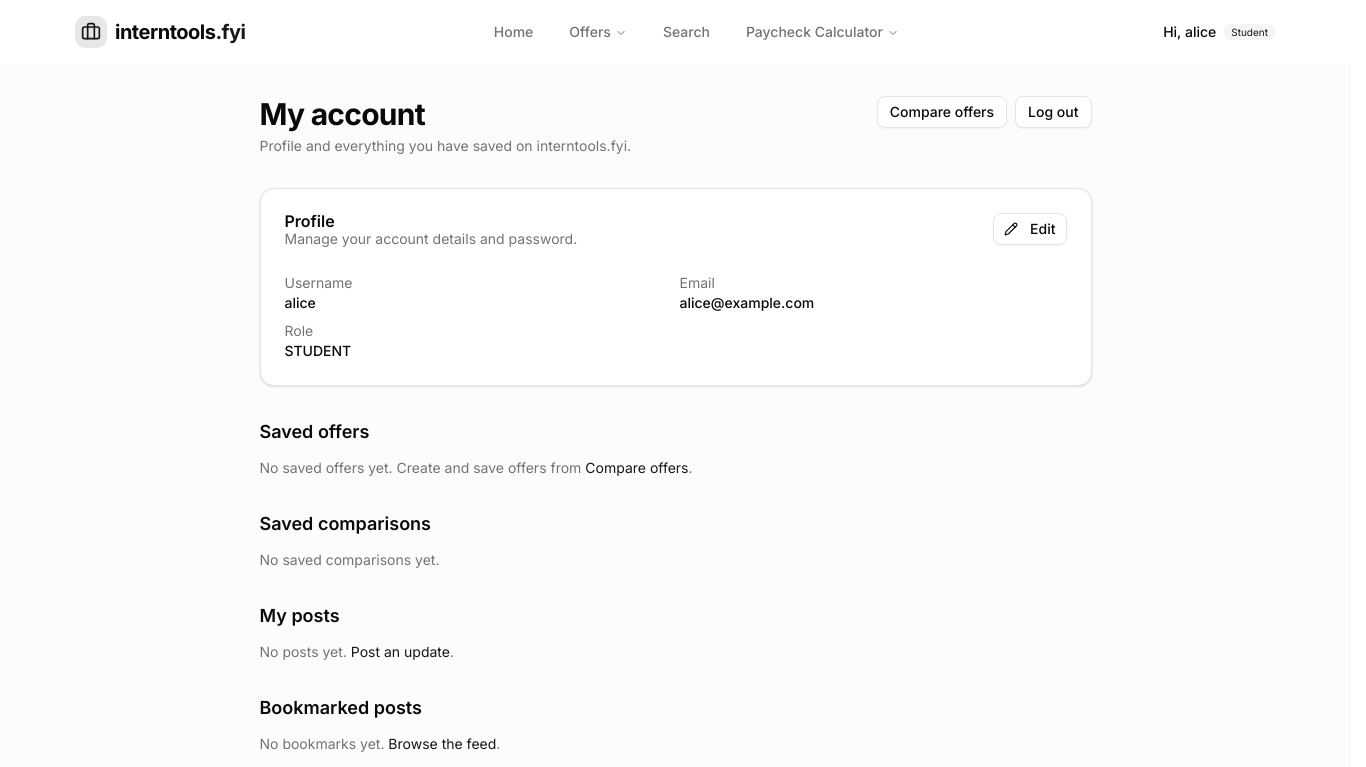
Test case: /me page › validates password change requires current password
Click the button "Edit" at [1030, 229], box x1=993 y1=213 x2=1066 y2=245
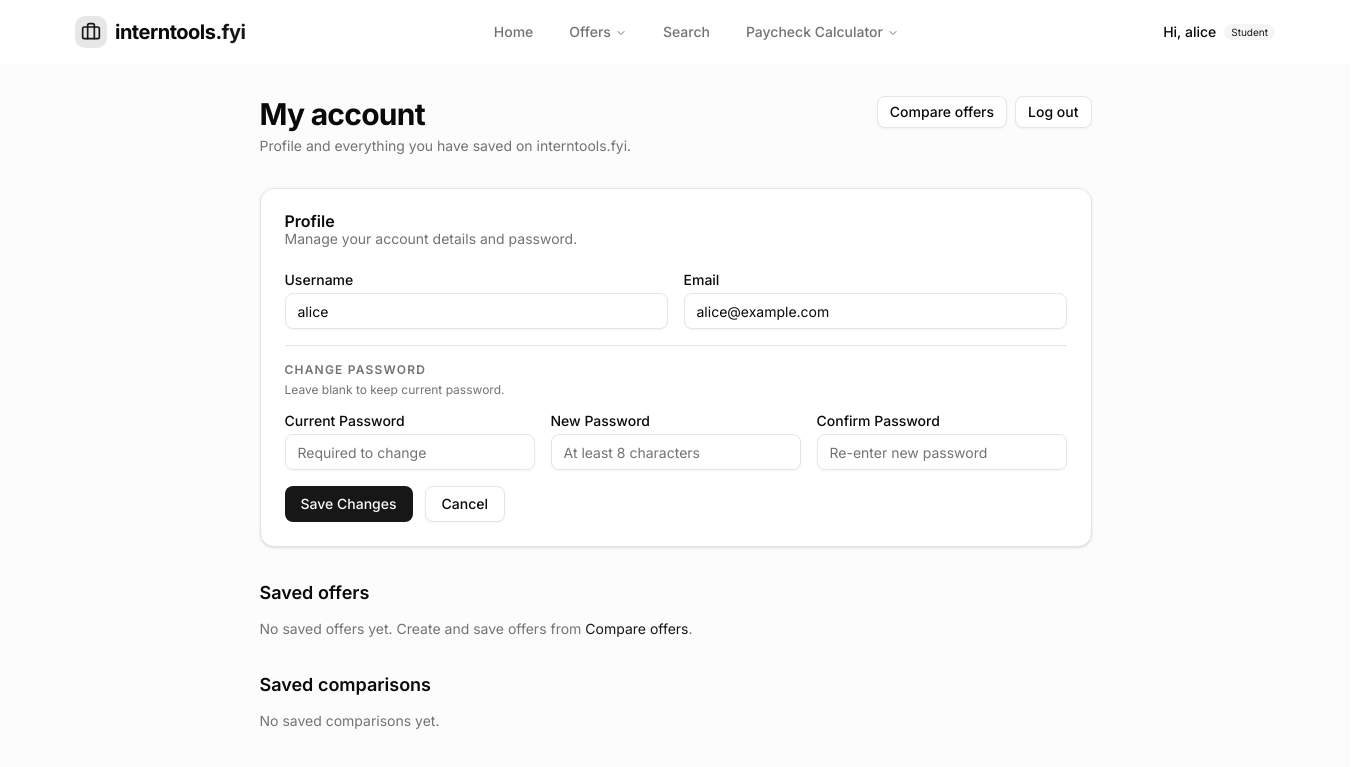
Type "new-pass" into the password field labelled "New Password" at [676, 452], box x1=550 y1=434 x2=800 y2=470
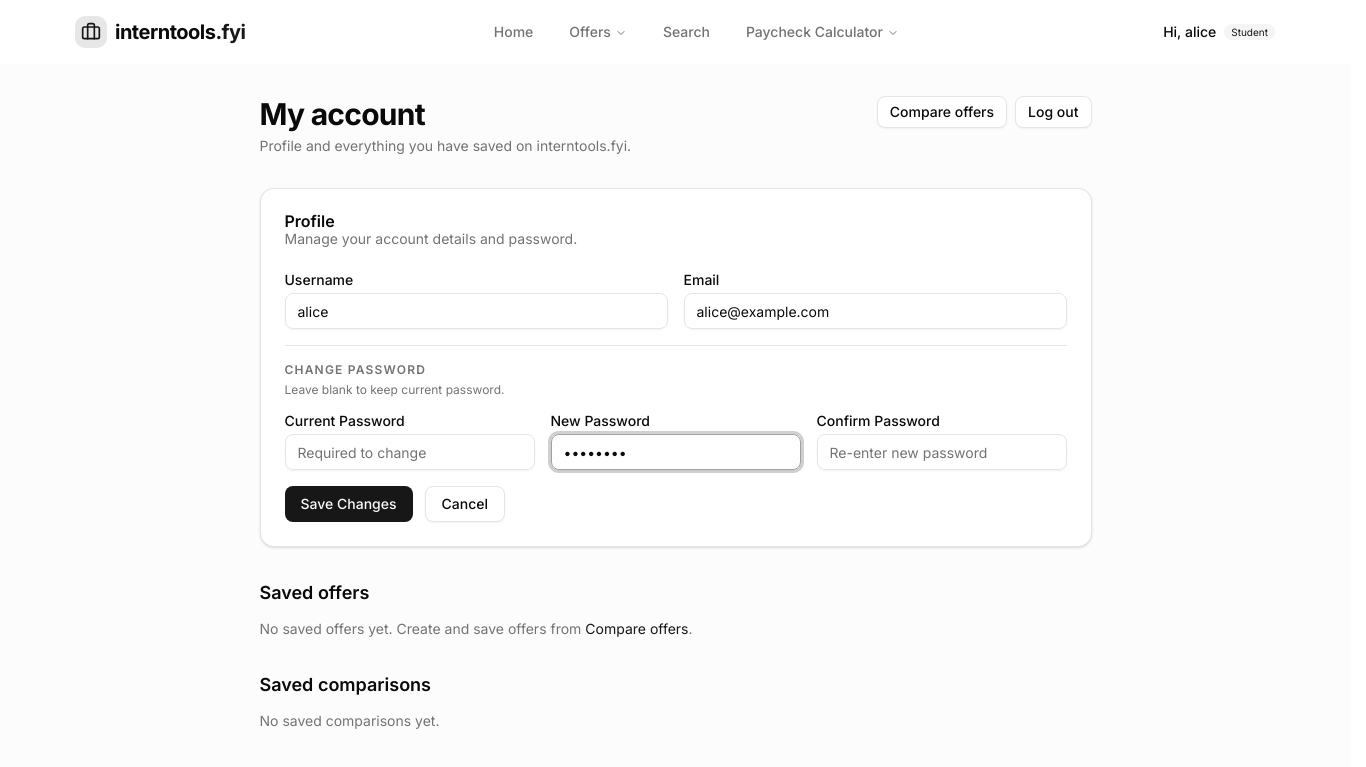
Type "new-pass" into the password field labelled "Confirm Password" at [942, 452], box x1=816 y1=434 x2=1066 y2=470
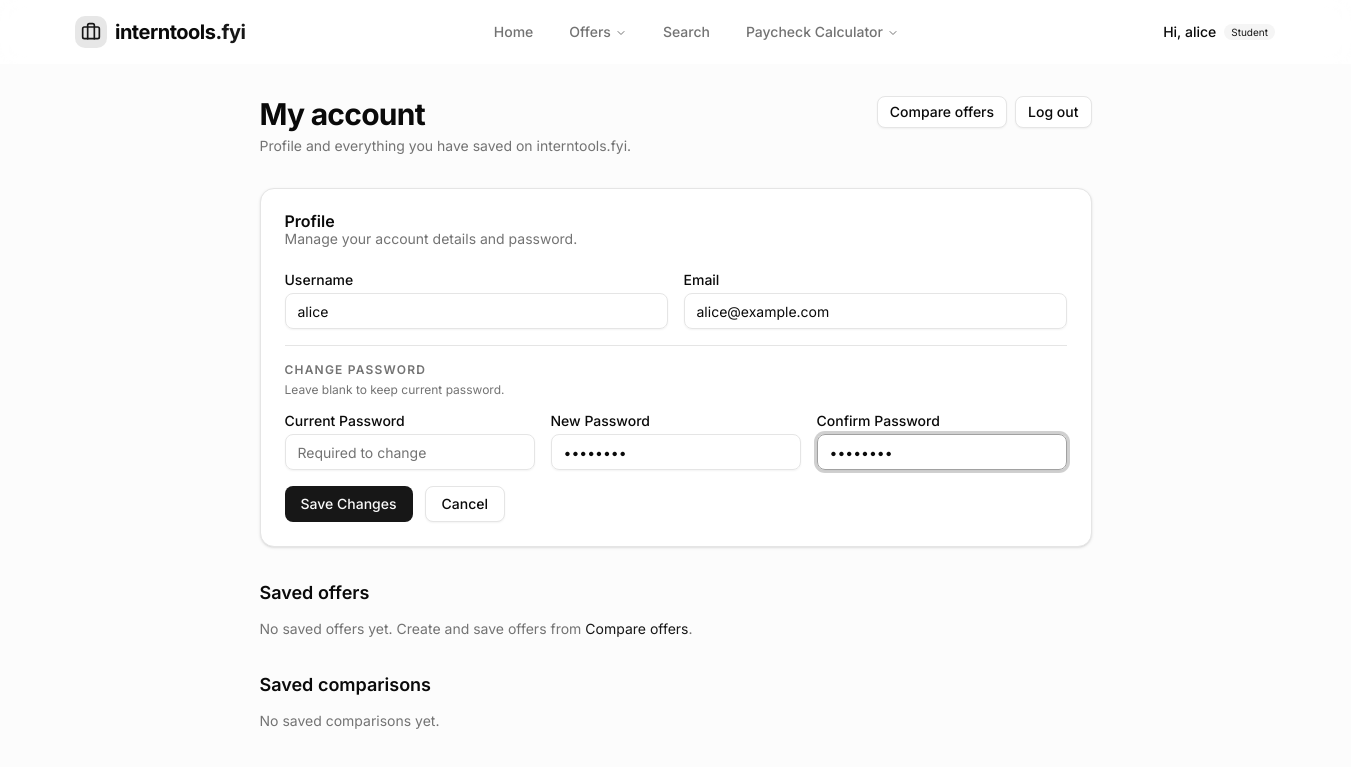
Click the button "Save Changes" at [348, 504], box x1=284 y1=486 x2=412 y2=522
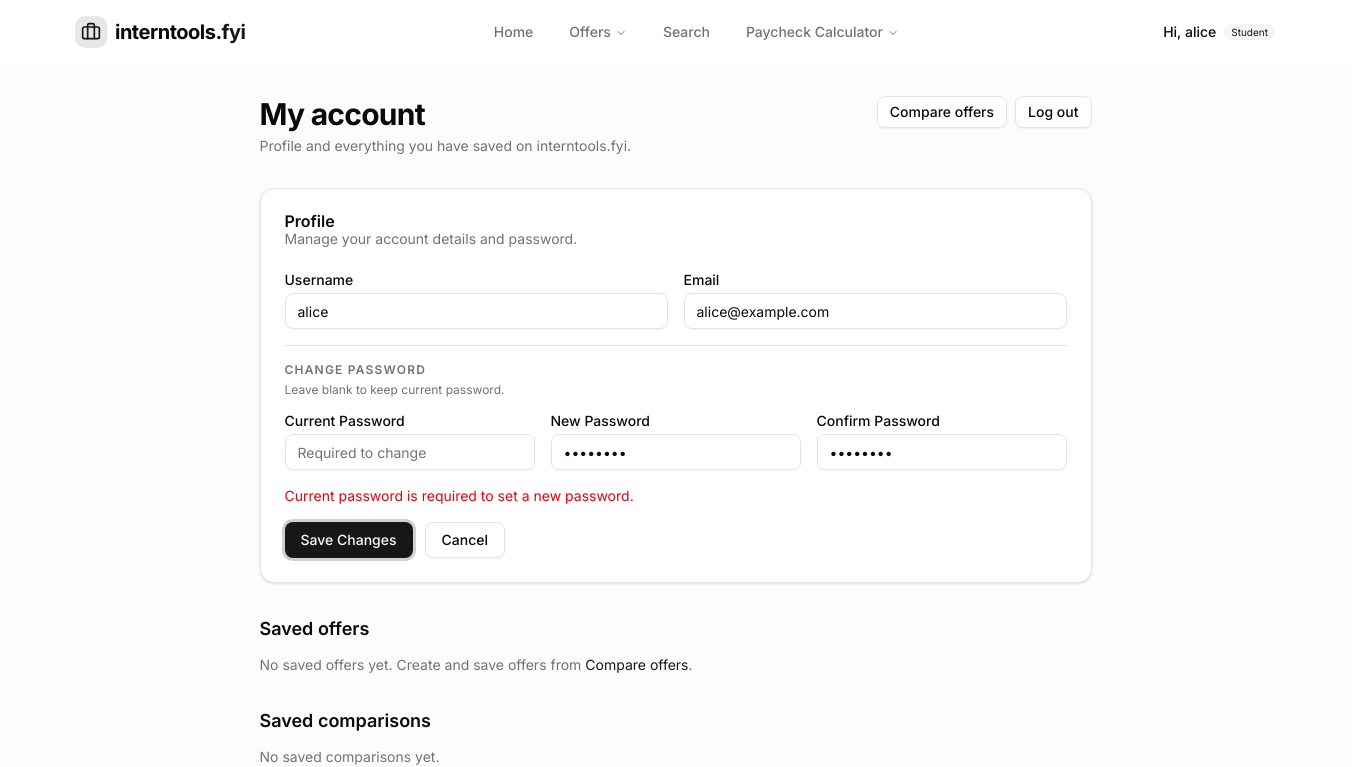
Expected: the text "Current password is required to set a new password." is shown, x1=284 y1=487 x2=634 y2=504
